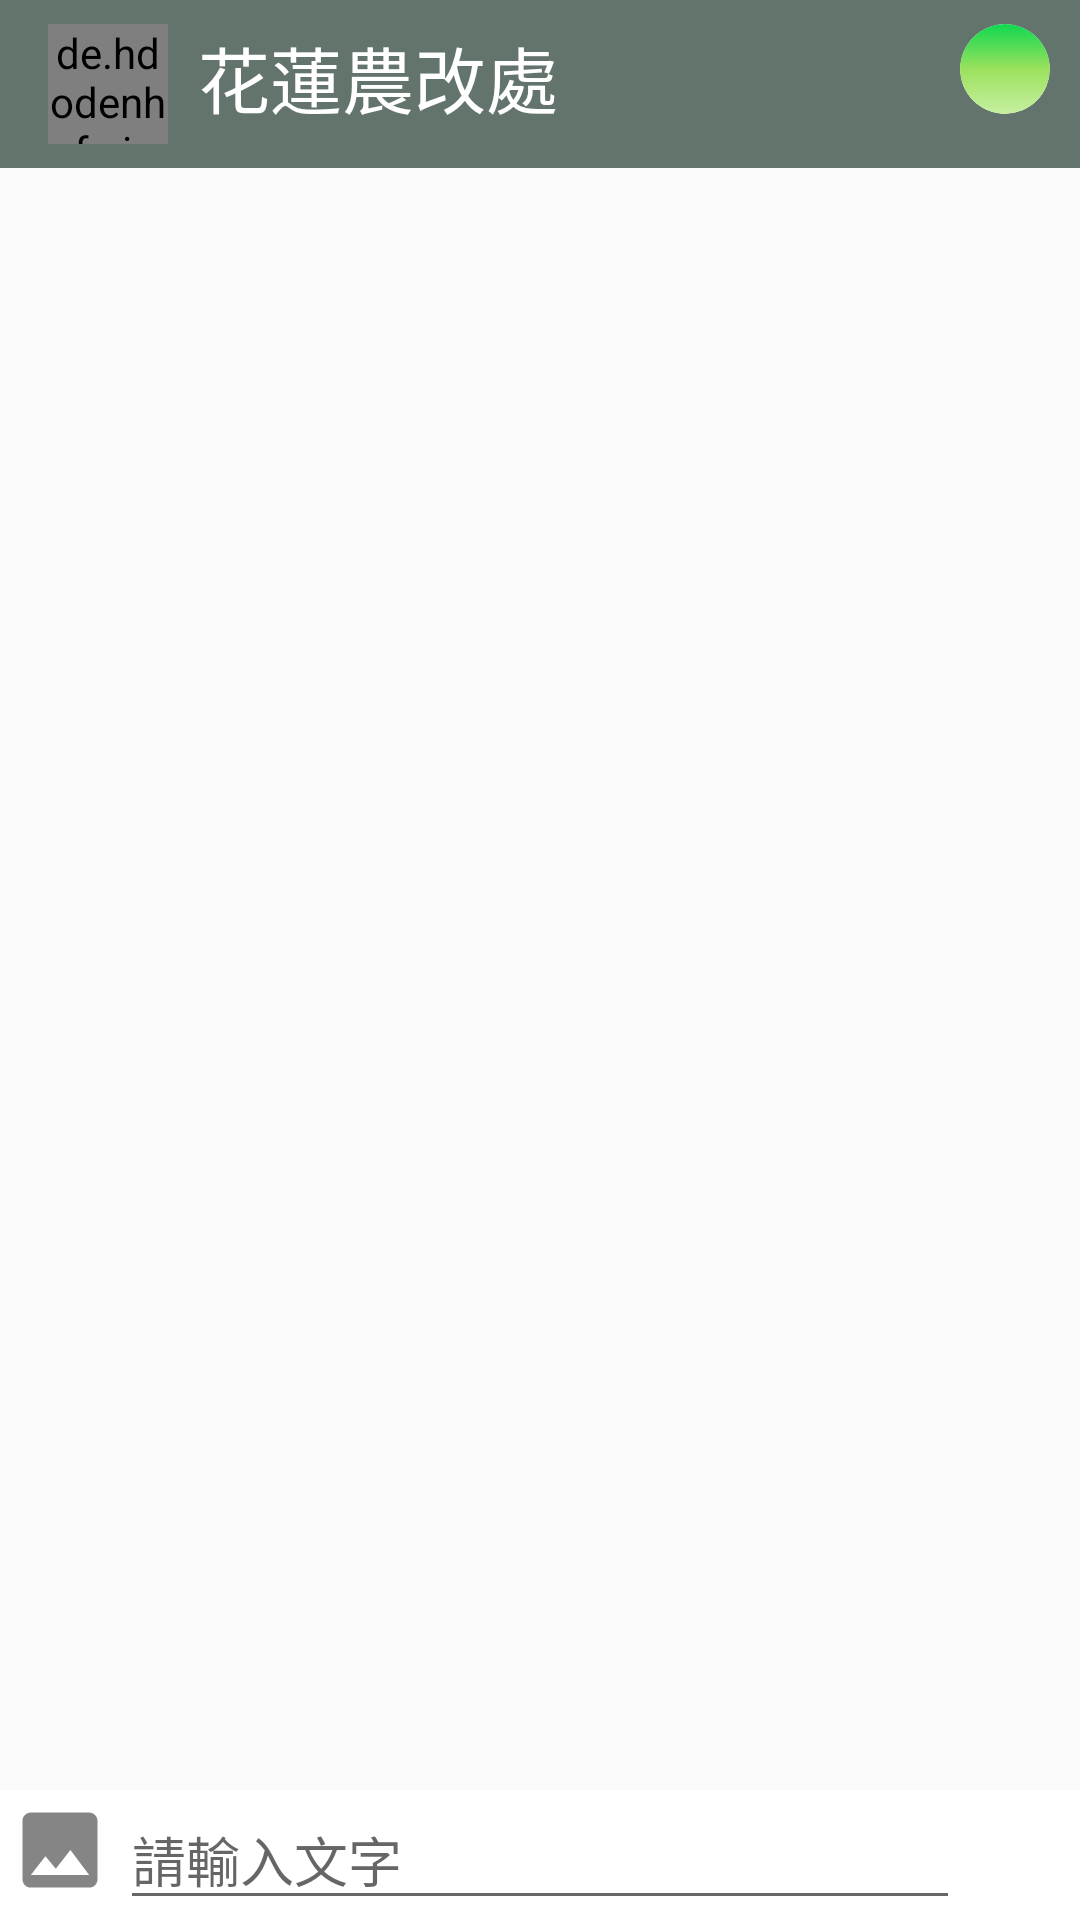

Named icons in this screenshot (1080w x 1920h) and their bounding boxes, (x1, y1, x2, y2):
photochoose: (22, 1812, 98, 1888)
